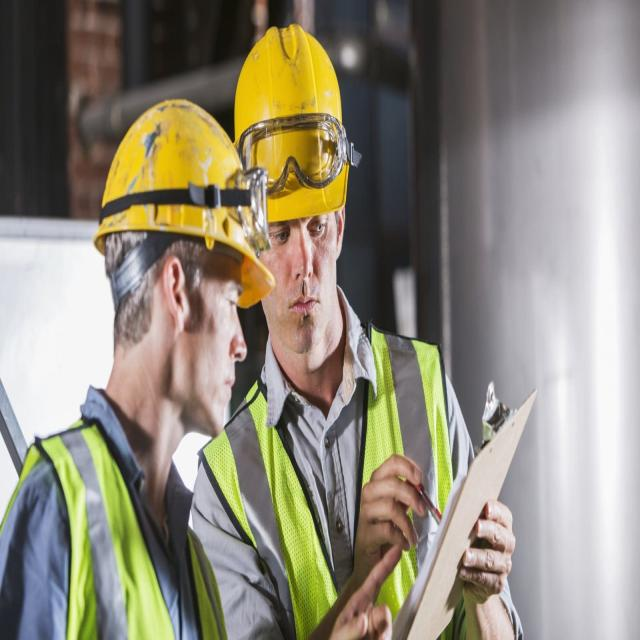helmet: (99, 94, 269, 274), (232, 26, 352, 210)
no-goggles: (172, 255, 251, 326), (261, 212, 342, 255)
vest: (204, 330, 452, 640), (25, 417, 224, 640)
